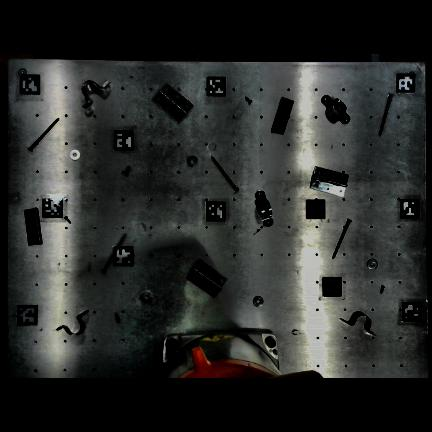black_screw: (65, 216, 70, 224), (115, 313, 120, 321), (381, 285, 385, 293), (123, 170, 129, 174), (249, 100, 252, 104)
clamp: (321, 96, 350, 124), (340, 312, 374, 335), (57, 310, 88, 335), (82, 80, 109, 107), (255, 190, 273, 226)
golden_screw: (28, 119, 59, 151), (212, 157, 239, 191), (102, 235, 126, 272), (333, 219, 351, 259), (380, 94, 392, 135)
hinge: (154, 84, 193, 122), (187, 260, 226, 296), (310, 167, 348, 197), (272, 98, 293, 134), (25, 208, 42, 245)
marker: (17, 304, 38, 325), (400, 198, 420, 219), (42, 198, 62, 218), (113, 246, 133, 266), (114, 130, 134, 150), (206, 75, 226, 95), (403, 300, 422, 321), (206, 201, 225, 222), (20, 75, 40, 94), (396, 73, 415, 93), (306, 200, 325, 219), (323, 278, 342, 296)
washer: (140, 290, 152, 302), (254, 296, 263, 307), (368, 259, 377, 269), (188, 156, 197, 166), (70, 150, 80, 159)
